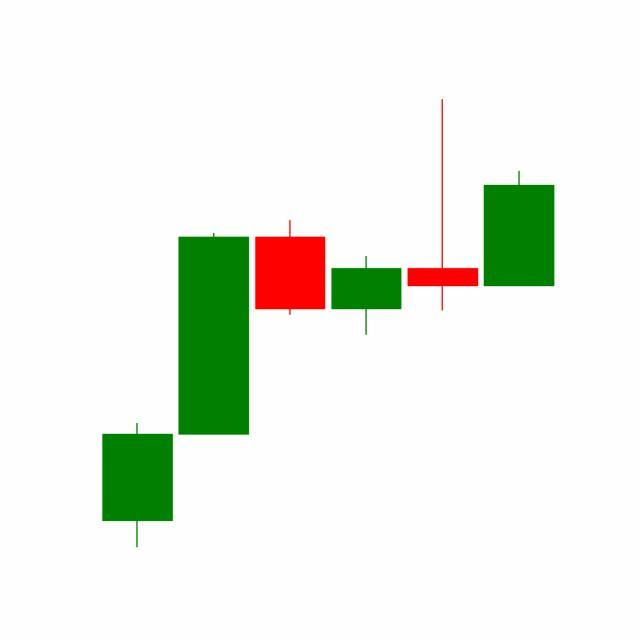Spinning Top: (404, 97, 482, 314)
